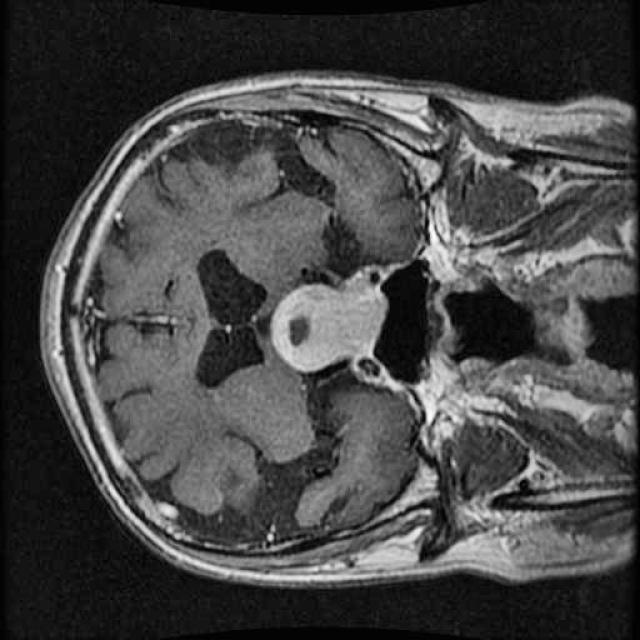Tumor: (264, 251, 395, 376)
